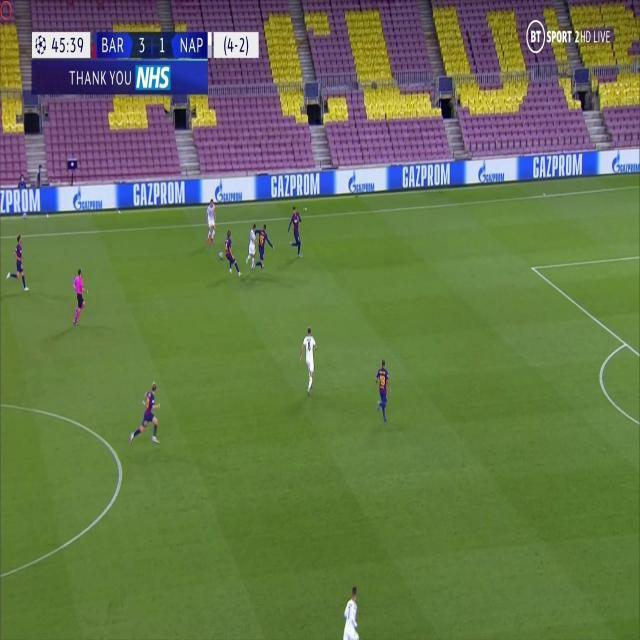ball: (218, 249, 223, 259)
player: (129, 380, 163, 448), (300, 323, 318, 393), (10, 229, 29, 291), (374, 356, 391, 423), (342, 582, 360, 640), (288, 202, 305, 257), (223, 229, 241, 277), (257, 223, 274, 269), (244, 222, 259, 270), (204, 195, 218, 244)
referee: (71, 266, 88, 327)
